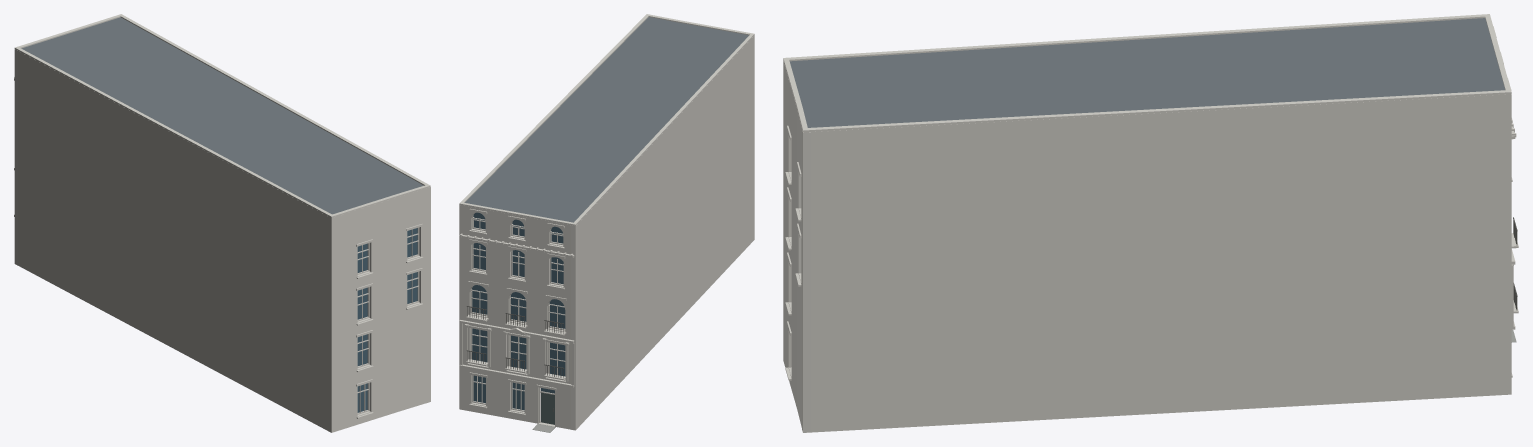
Rendered from replacement.glb.
3 renders of one model, left to right at view 1: azimuth 30°, elevation 25°; view 2: azimuth 150°, elevation 25°; view 3: azimuth 270°, elevation 25°, orthographic. The views are drawn at different scales.
Visible parts, largest first — view 1: 27 Princes Gate | pierced masonry, 27 Princes Gate | complete attic roof deck, 27 Princes Gate | attic continuous mitred rim, 27 Princes Gate | recessed glazing, 27 Princes Gate | painted joinery; view 2: 27 Princes Gate | pierced masonry, 27 Princes Gate | complete attic roof deck, 27 Princes Gate | attic continuous mitred rim, 27 Princes Gate | curved recessed glazing, 27 Princes Gate | recessed glazing, 27 Princes Gate | front cornice, 27 Princes Gate | painted joinery, 27 Princes Gate | lintels, 27 Princes Gate | curved masonry heads, 27 Princes Gate | first floor pilaster shafts, 27 Princes Gate | projecting sills, 27 Princes Gate | Juliet vertical bars (+6 smaller); view 3: 27 Princes Gate | pierced masonry, 27 Princes Gate | complete attic roof deck, 27 Princes Gate | attic continuous mitred rim.
Part boxes in pixels (x1,y1,x2,y2): 27 Princes Gate | pierced masonry: [14, 49, 430, 432]; 27 Princes Gate | complete attic roof deck: [21, 17, 423, 214]; 27 Princes Gate | attic continuous mitred rim: [14, 14, 430, 217]; 27 Princes Gate | recessed glazing: [357, 228, 417, 412]; 27 Princes Gate | painted joinery: [357, 227, 419, 414]; 27 Princes Gate | pierced masonry: [459, 35, 754, 430]; 27 Princes Gate | complete attic roof deck: [465, 17, 748, 222]; 27 Princes Gate | attic continuous mitred rim: [459, 14, 754, 225]; 27 Princes Gate | curved recessed glazing: [472, 212, 565, 328]; 27 Princes Gate | recessed glazing: [472, 328, 565, 410]; 27 Princes Gate | front cornice: [459, 235, 574, 387]; 27 Princes Gate | painted joinery: [470, 217, 565, 422]; 27 Princes Gate | lintels: [467, 208, 566, 390]; 27 Princes Gate | curved masonry heads: [469, 207, 565, 309]; 27 Princes Gate | first floor pilaster shafts: [465, 327, 568, 381]; 27 Princes Gate | projecting sills: [467, 230, 566, 415]; 27 Princes Gate | Juliet vertical bars: [467, 307, 563, 378]; 27 Princes Gate | pierced masonry: [783, 60, 1511, 432]; 27 Princes Gate | complete attic roof deck: [789, 18, 1504, 127]; 27 Princes Gate | attic continuous mitred rim: [783, 14, 1511, 132].
Size of the model in its own units: 12.61 by 15.32 by 33.61.
